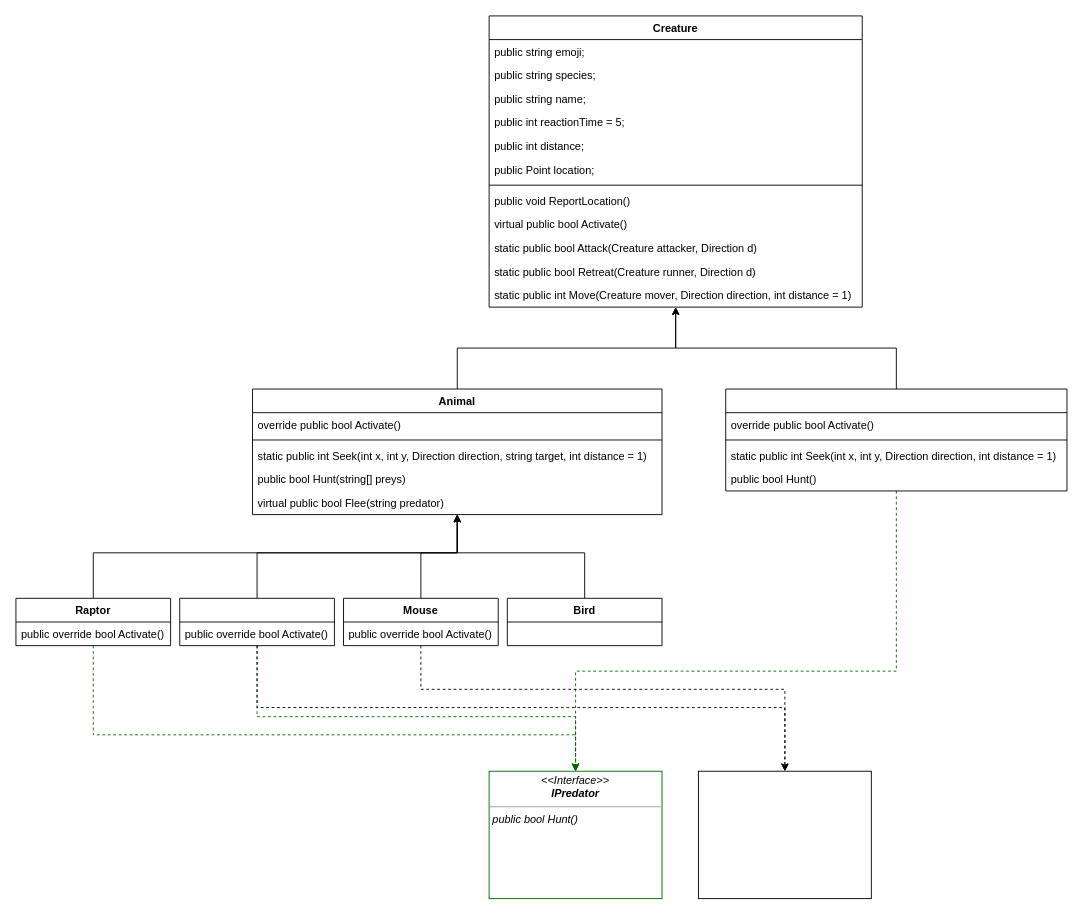
Some shapes in this 1083 by 915 pixel diagram are drawn without their labels. The shapes that lost their labels are listed below. From the top down, each one's box as (x1, y1, x2, y2) in pixels, then its label:
(725, 388, 1067, 491): Alien
(179, 597, 334, 646): Cat
(698, 770, 871, 899): <<Interface>> IPrey public bool Flee()
